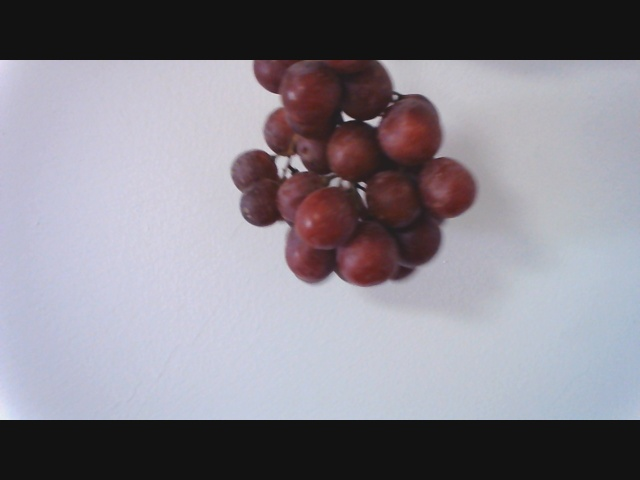grape: (218, 65, 475, 297)
